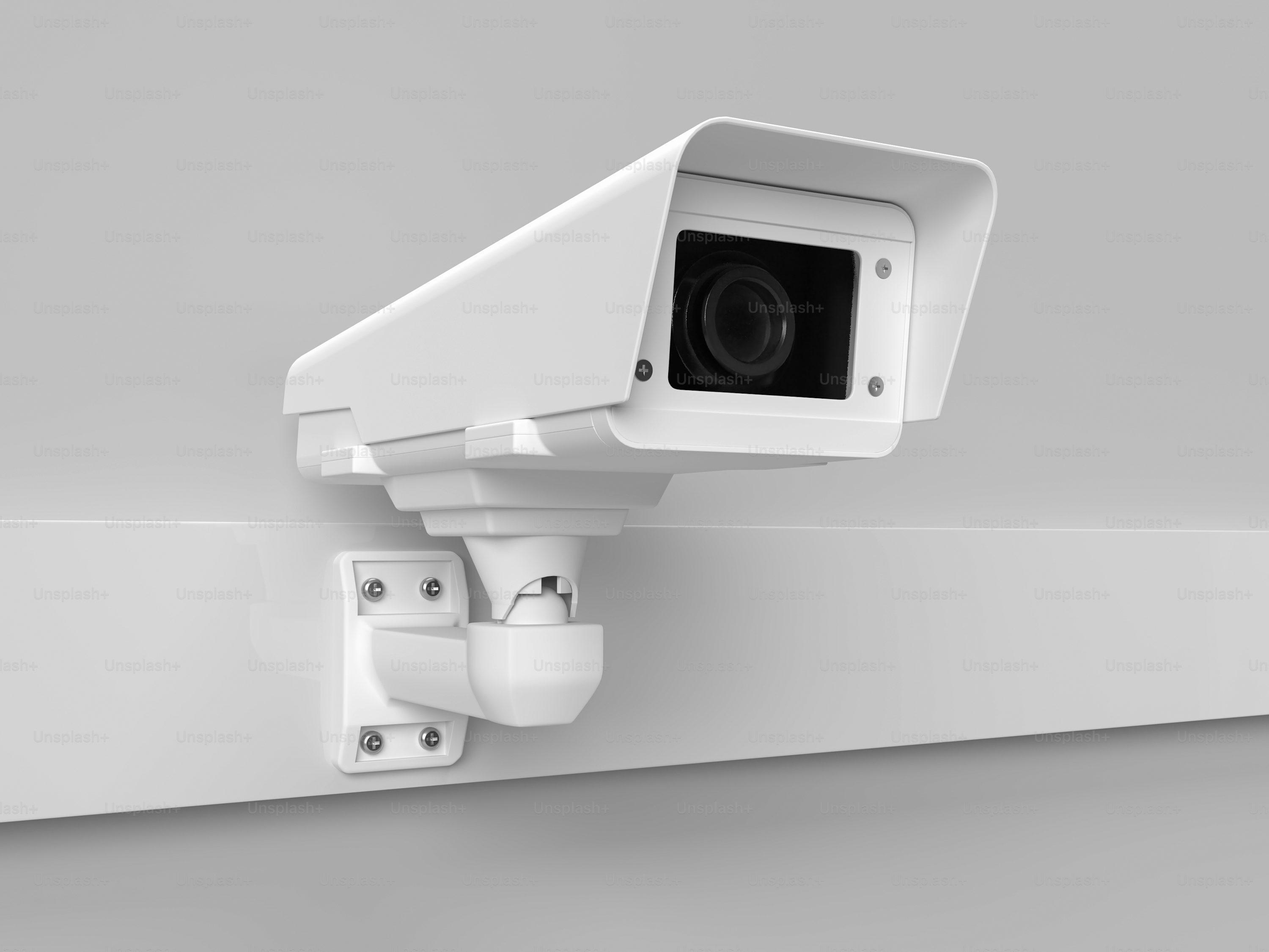------------------------------: (236, 107, 1022, 517)
